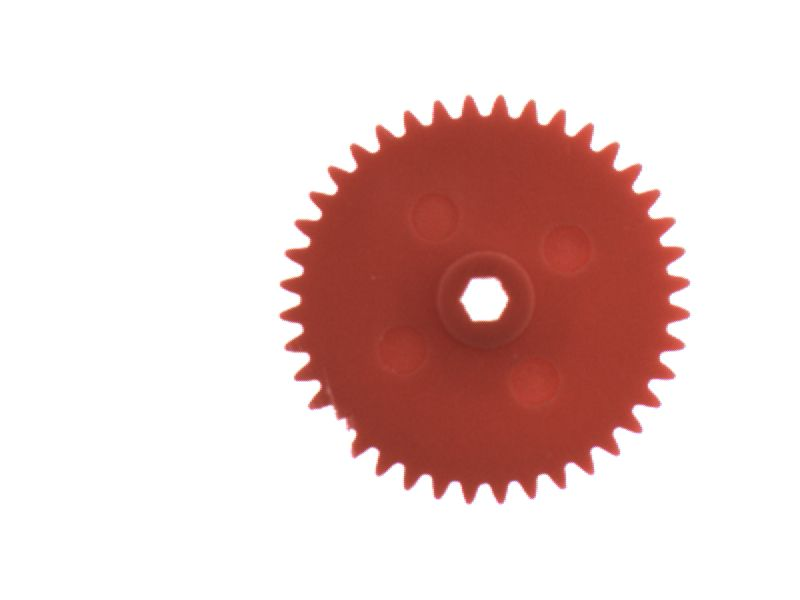defect_lack: (304, 403, 362, 457)
